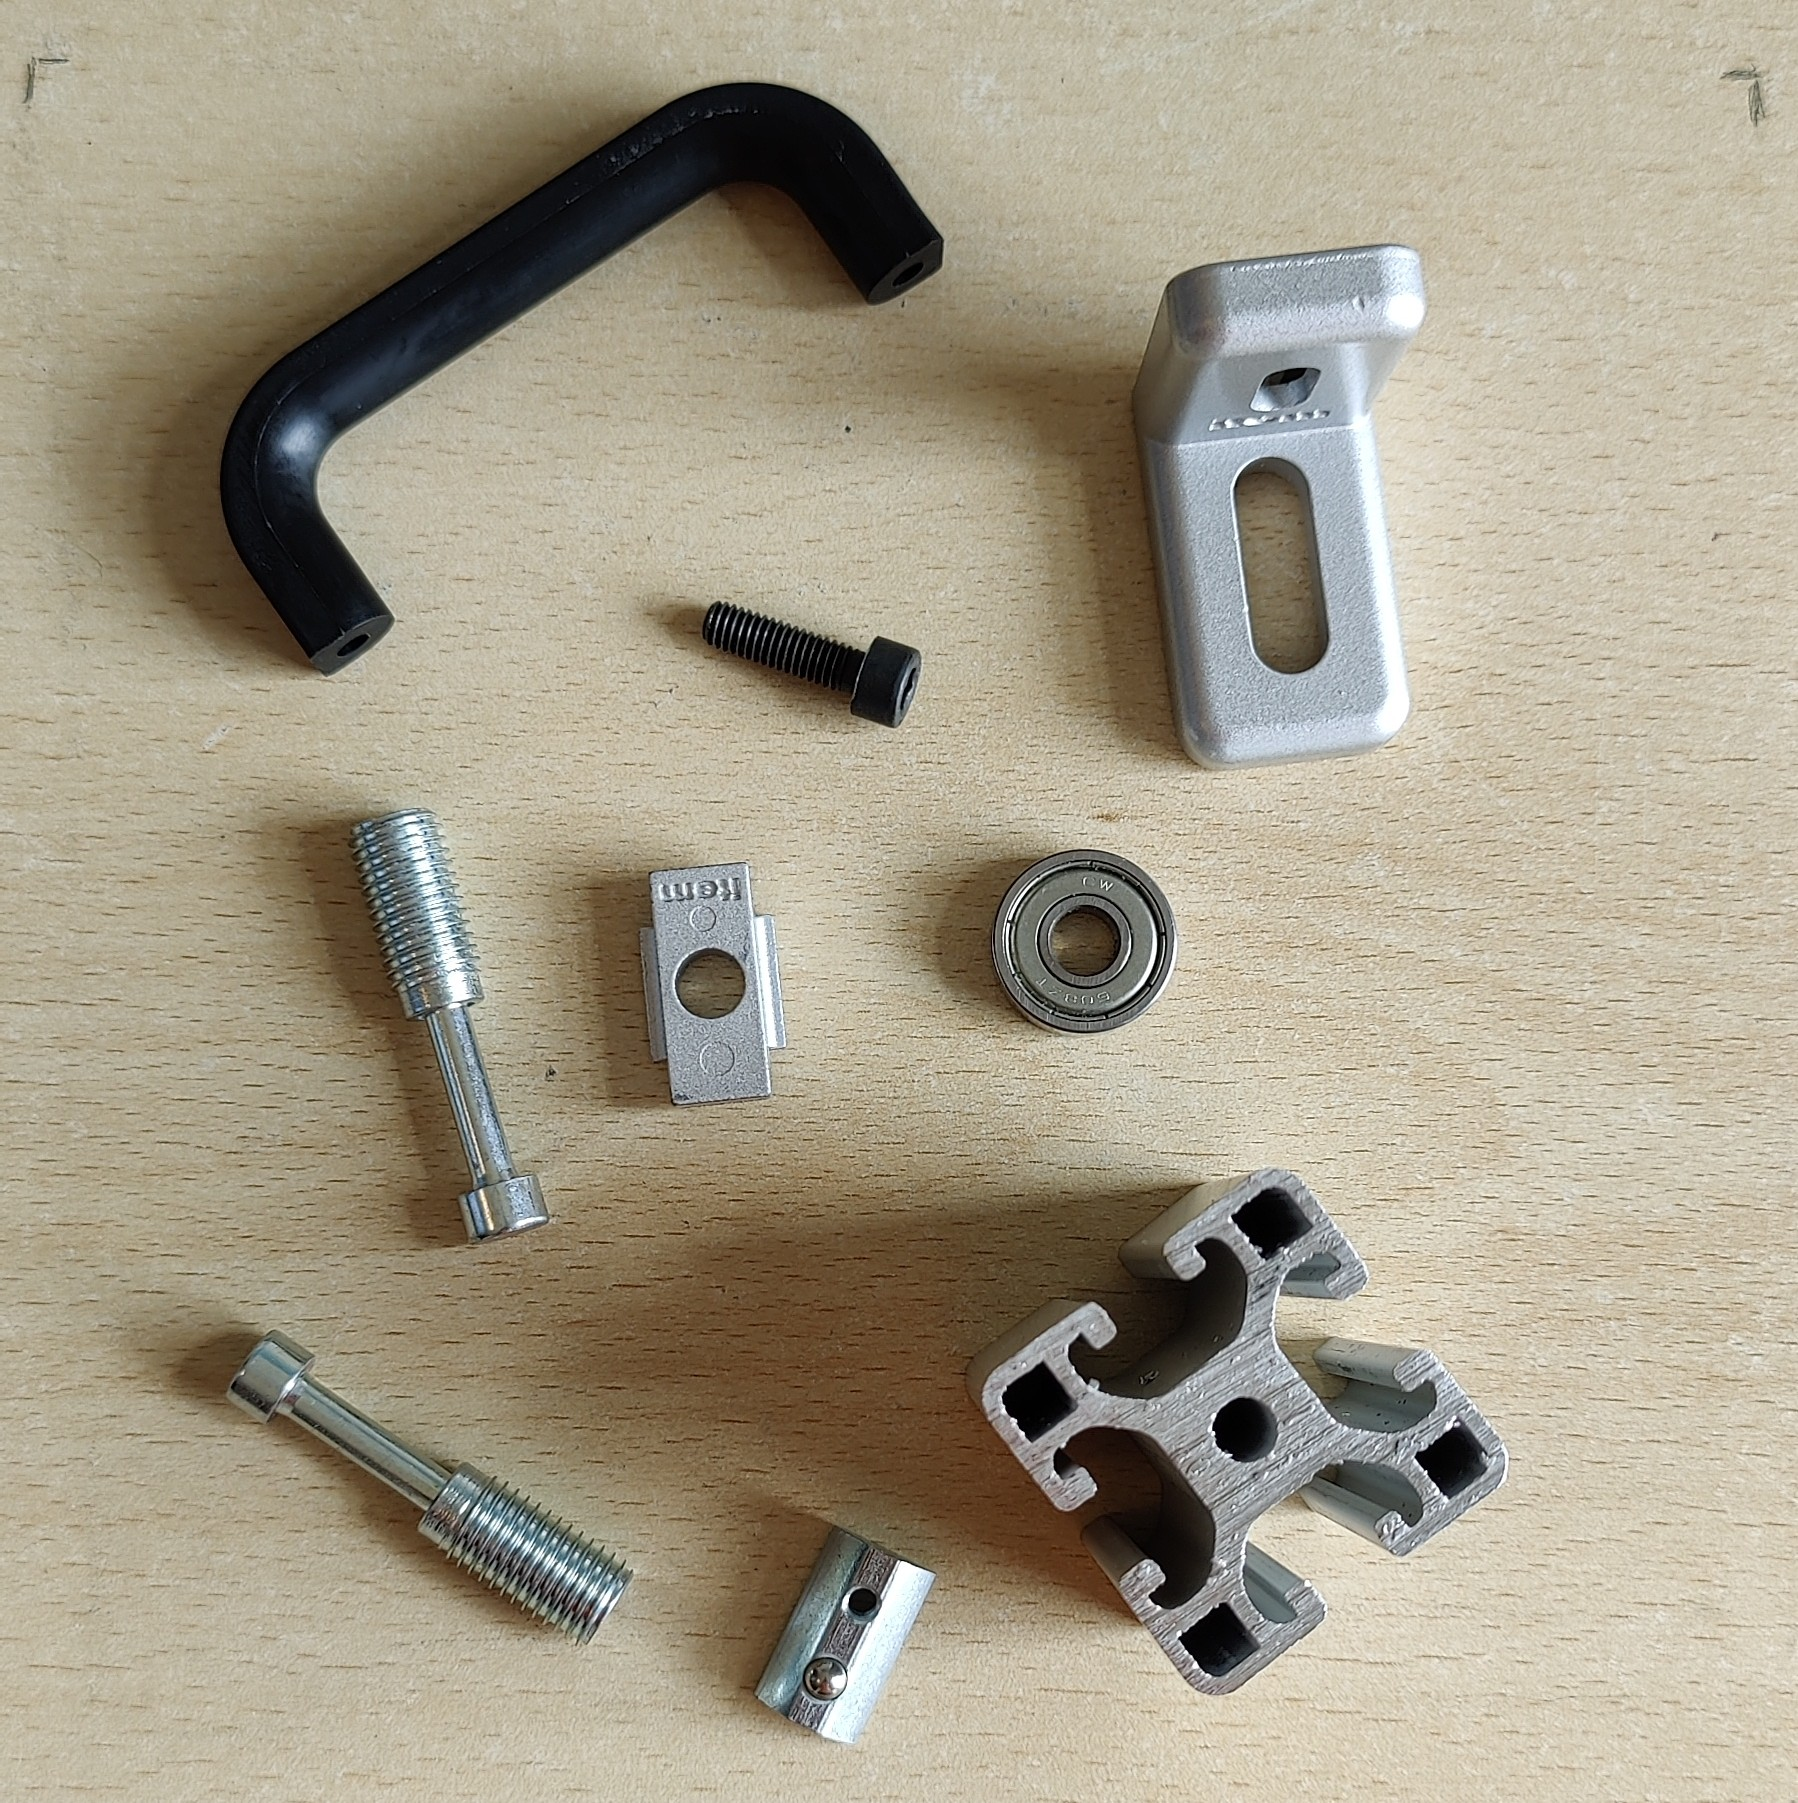Aluminium Extension: (958, 1164, 1512, 1698)
Ball Bearing: (990, 848, 1177, 1037)
Multiwinkel: (1130, 242, 1424, 772)
Pull Handle: (217, 77, 948, 678)
Shoulder Socket Head Cap Screw: (222, 1327, 636, 1648), (339, 804, 552, 1248)
Socket Head Cap Screw: (700, 599, 920, 729)
T Nut Square: (637, 860, 789, 1110)
T Spring Nut: (752, 1523, 937, 1749)
